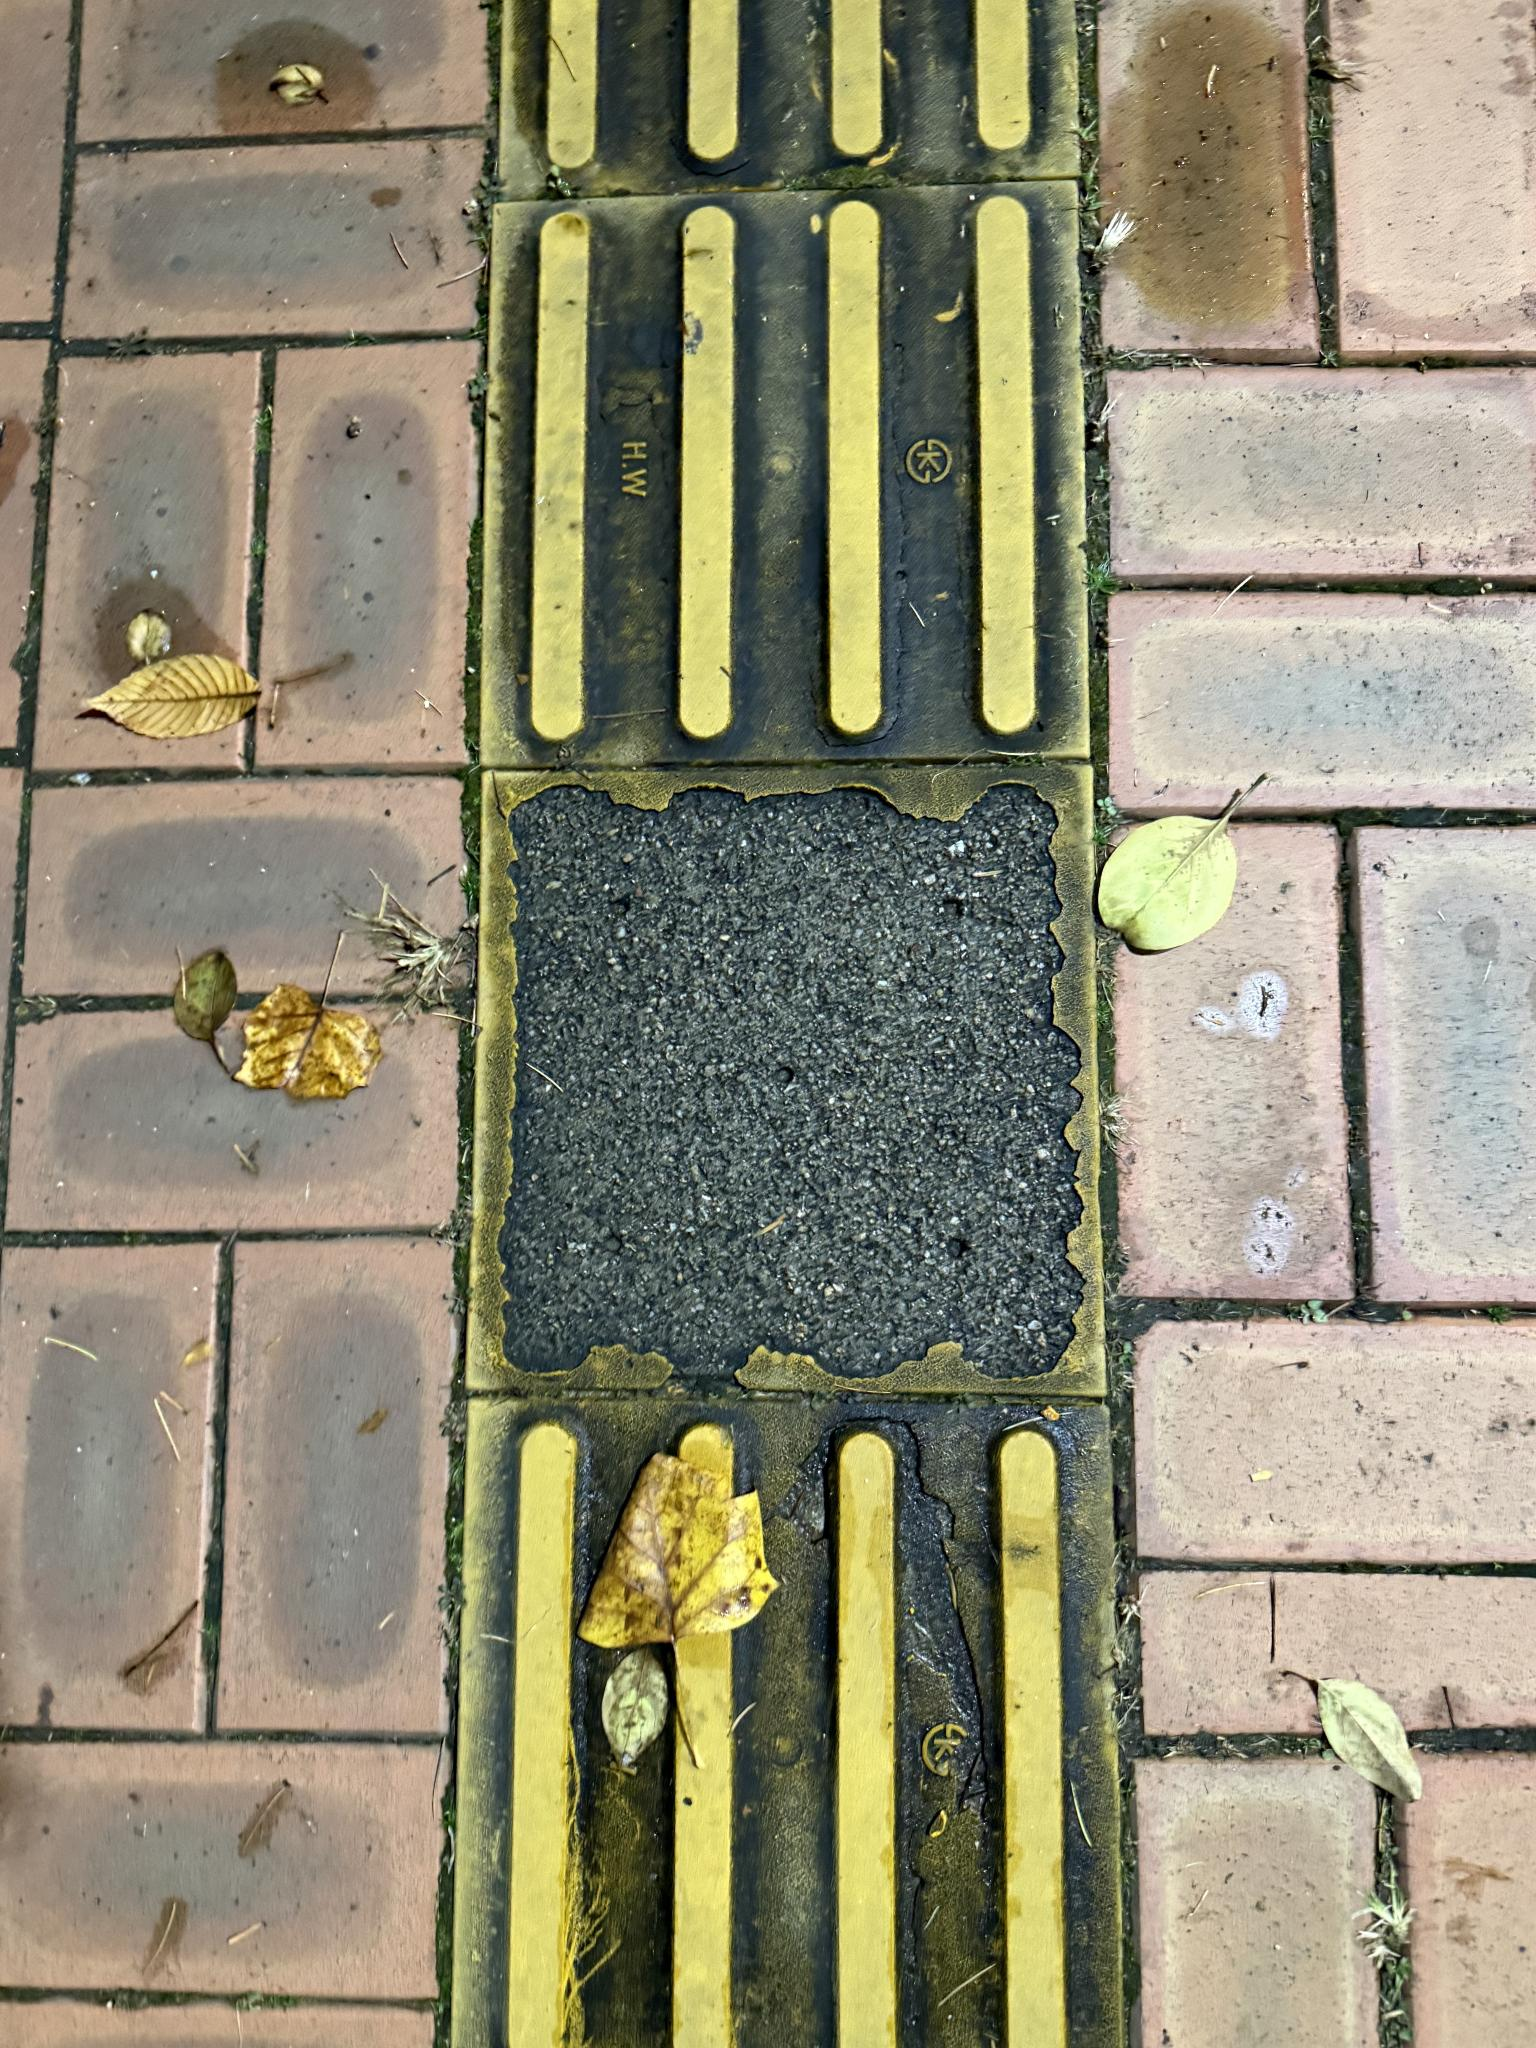Straight block broken: (486, 777, 1096, 1385)
Straight block normal: (484, 184, 1083, 758)
